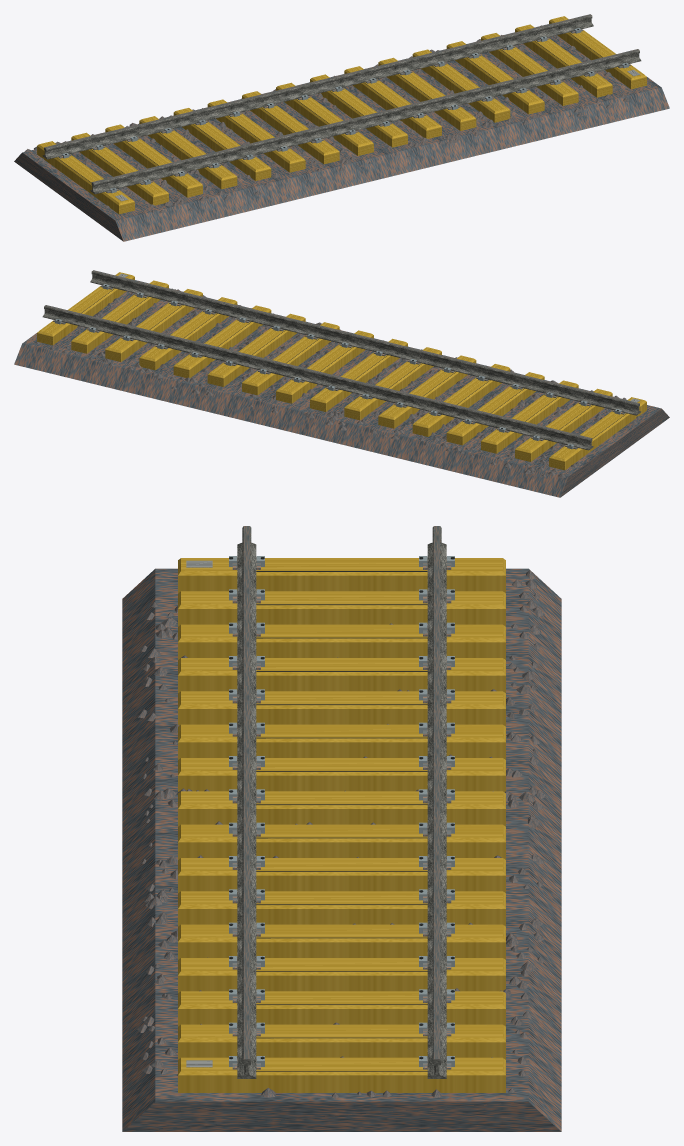
The model's file is ProjectZ_Railway_Track_Straight_10m.glb.
The picture shows the model from 3 angles, top to bottom: view 1: azimuth 30°, elevation 25°; view 2: azimuth 150°, elevation 25°; view 3: azimuth 270°, elevation 25°; orthographic projection. The views are drawn at different scales.
Parts seen in each view (by area): view 1: Ballast_Bed_Segment_5m_01, Ballast_Bed_Segment_5m_02, Rail_L_Weathered_I_Profile_10m, Rail_R_Weathered_I_Profile_10m, Surface_Ballast_Rocks_5m_01, Surface_Ballast_Rocks_5m_02, Sleeper_01_at_0.3125m, Sleeper_11_at_6.5625m, Sleeper_05_at_2.8125m, Sleeper_14_at_8.4375m, Sleeper_03_at_1.5625m, Sleeper_13_at_7.8125m (+12 smaller); view 2: Ballast_Bed_Segment_5m_01, Ballast_Bed_Segment_5m_02, Rail_R_Weathered_I_Profile_10m, Rail_L_Weathered_I_Profile_10m, Surface_Ballast_Rocks_5m_01, Surface_Ballast_Rocks_5m_02, Sleeper_01_at_0.3125m, Sleeper_11_at_6.5625m, Sleeper_14_at_8.4375m, Sleeper_05_at_2.8125m, Sleeper_02_at_0.9375m, Sleeper_03_at_1.5625m (+12 smaller); view 3: Ballast_Bed_Segment_5m_02, Ballast_Bed_Segment_5m_01, Sleeper_16_at_9.6875m, Sleeper_12_at_7.1875m, Sleeper_02_at_0.9375m, Sleeper_05_at_2.8125m, Sleeper_10_at_5.9375m, Sleeper_15_at_9.0625m, Sleeper_06_at_3.4375m, Sleeper_03_at_1.5625m, Sleeper_13_at_7.8125m, Sleeper_14_at_8.4375m (+12 smaller).
Part boxes in pixels (x1=…): Ballast_Bed_Segment_5m_01: x1=14, y1=90, x2=396, y2=241; Ballast_Bed_Segment_5m_02: x1=296, y1=24, x2=669, y2=174; Rail_L_Weathered_I_Profile_10m: x1=42, y1=15, x2=593, y2=159; Rail_R_Weathered_I_Profile_10m: x1=90, y1=50, x2=641, y2=194; Surface_Ballast_Rocks_5m_01: x1=24, y1=89, x2=371, y2=212; Surface_Ballast_Rocks_5m_02: x1=316, y1=25, x2=631, y2=157; Sleeper_01_at_0.3125m: x1=37, y1=141, x2=134, y2=214; Sleeper_11_at_6.5625m: x1=378, y1=57, x2=476, y2=130; Sleeper_05_at_2.8125m: x1=173, y1=108, x2=271, y2=180; Sleeper_14_at_8.4375m: x1=481, y1=33, x2=578, y2=105; Sleeper_03_at_1.5625m: x1=105, y1=124, x2=202, y2=197; Sleeper_13_at_7.8125m: x1=446, y1=41, x2=544, y2=114; Ballast_Bed_Segment_5m_01: x1=287, y1=346, x2=669, y2=497; Ballast_Bed_Segment_5m_02: x1=14, y1=280, x2=387, y2=430; Rail_R_Weathered_I_Profile_10m: x1=90, y1=271, x2=641, y2=415; Rail_L_Weathered_I_Profile_10m: x1=42, y1=306, x2=593, y2=450; Surface_Ballast_Rocks_5m_01: x1=303, y1=349, x2=640, y2=477; Surface_Ballast_Rocks_5m_02: x1=35, y1=288, x2=383, y2=413; Sleeper_01_at_0.3125m: x1=549, y1=397, x2=646, y2=470; Sleeper_11_at_6.5625m: x1=207, y1=313, x2=305, y2=386; Sleeper_14_at_8.4375m: x1=105, y1=289, x2=202, y2=361; Sleeper_05_at_2.8125m: x1=412, y1=364, x2=510, y2=436; Sleeper_02_at_0.9375m: x1=515, y1=388, x2=612, y2=461; Sleeper_03_at_1.5625m: x1=481, y1=380, x2=578, y2=453; Ballast_Bed_Segment_5m_02: x1=122, y1=835, x2=561, y2=1131; Ballast_Bed_Segment_5m_01: x1=122, y1=568, x2=561, y2=864; Sleeper_16_at_9.6875m: x1=178, y1=1057, x2=505, y2=1092; Sleeper_12_at_7.1875m: x1=178, y1=924, x2=505, y2=959; Sleeper_02_at_0.9375m: x1=178, y1=591, x2=505, y2=626; Sleeper_05_at_2.8125m: x1=178, y1=691, x2=505, y2=726; Sleeper_10_at_5.9375m: x1=178, y1=858, x2=505, y2=892; Sleeper_15_at_9.0625m: x1=178, y1=1024, x2=505, y2=1059; Sleeper_06_at_3.4375m: x1=178, y1=724, x2=505, y2=759; Sleeper_03_at_1.5625m: x1=178, y1=624, x2=505, y2=659; Sleeper_13_at_7.8125m: x1=178, y1=958, x2=505, y2=992; Sleeper_14_at_8.4375m: x1=178, y1=991, x2=505, y2=1026.
Bounding box in the file's own units: 10 × 0.635 × 3.48.
8 materials, 8 textured.
